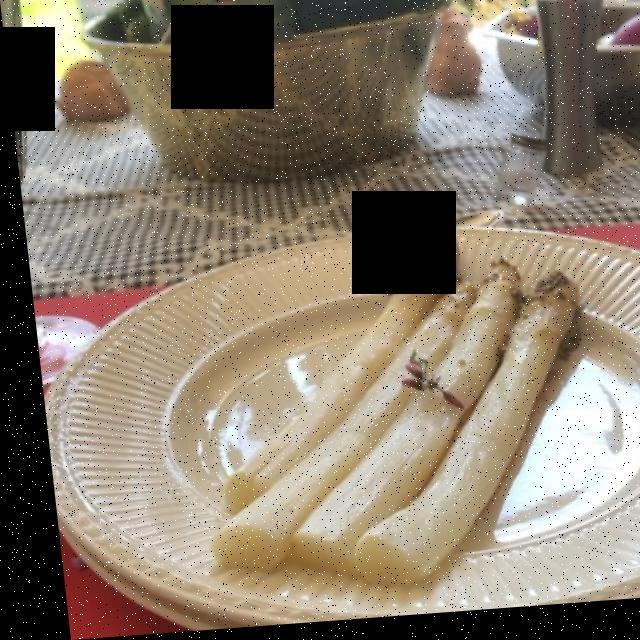asparagus: (202, 250, 569, 588)
